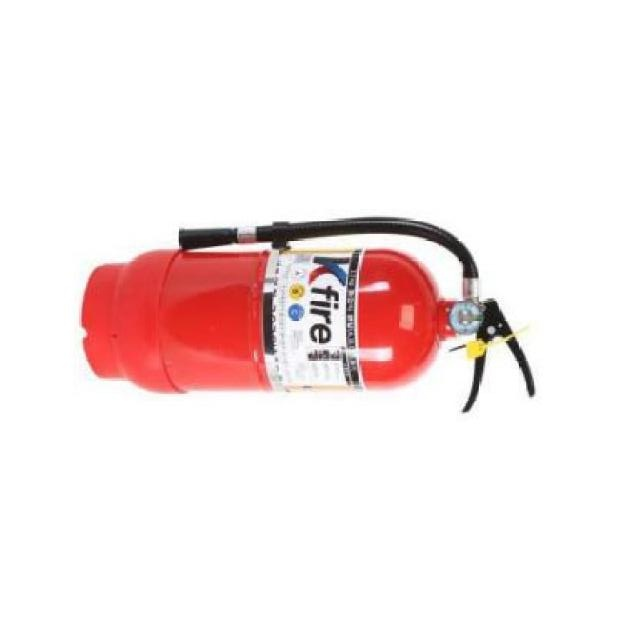fire extinguisher: (81, 216, 535, 413)
